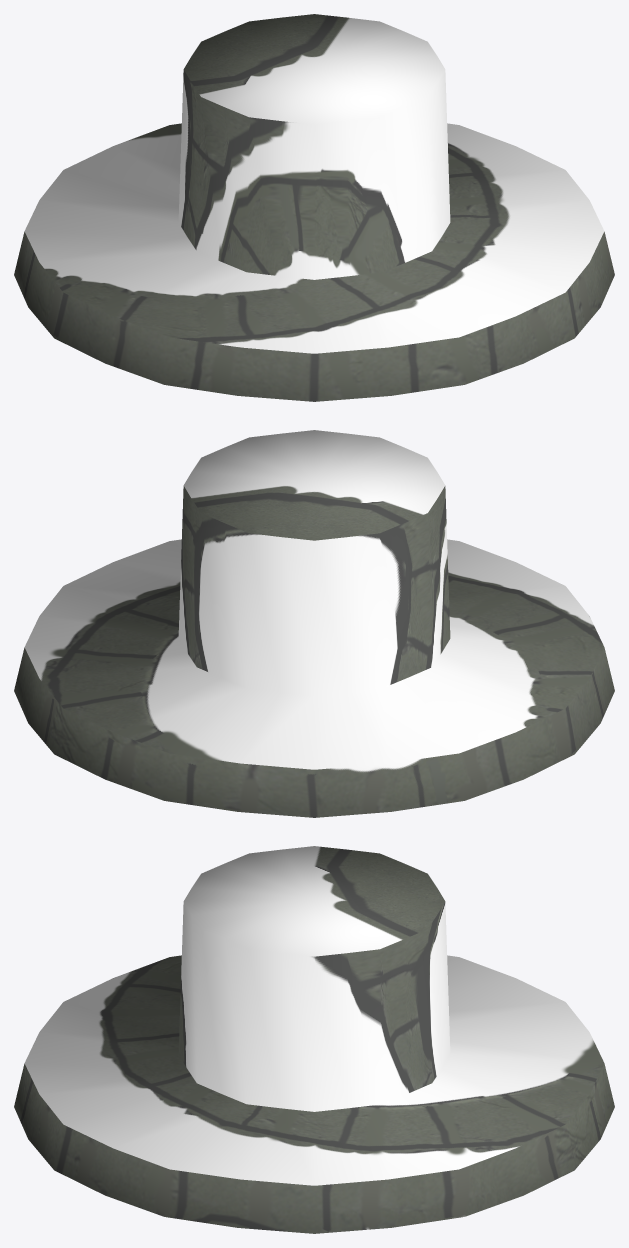
The model's file is platform_mirror.fbx.
3 renders of one model, top to bottom at view 1: azimuth 30°, elevation 25°; view 2: azimuth 150°, elevation 25°; view 3: azimuth 270°, elevation 25°, orthographic.
Parts seen in each view (by area): view 1: platform_mirrors; view 2: platform_mirrors; view 3: platform_mirrors.
Boxes of the visible parts, x1,y1,x2,y2 form: platform_mirrors: [14, 14, 614, 401]; platform_mirrors: [14, 430, 614, 817]; platform_mirrors: [14, 846, 614, 1233].
Bounding box in the file's own units: 3.62 × 1.39 × 3.62.
